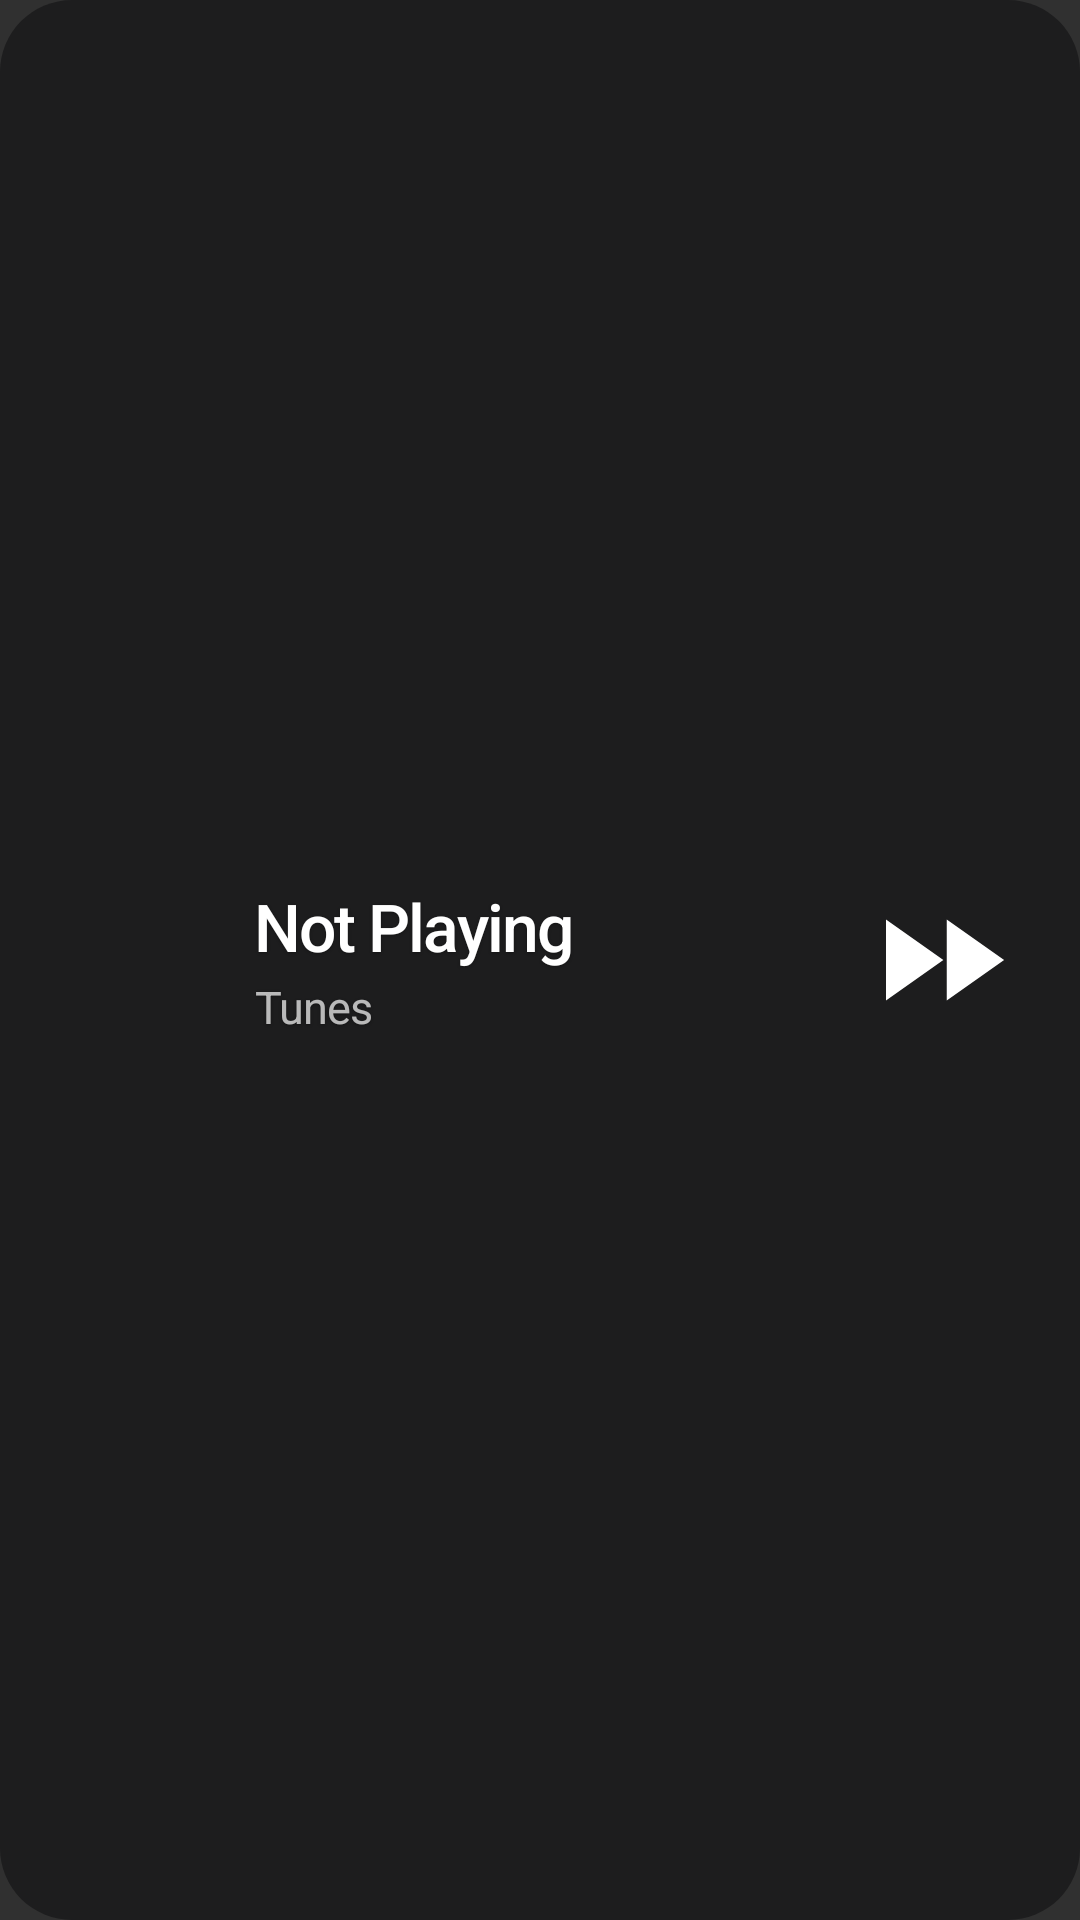

Where icons sit on this 1080×1920 app screen, as (x1, y1, x2, y2):
Next: (886, 919, 1004, 1001)
